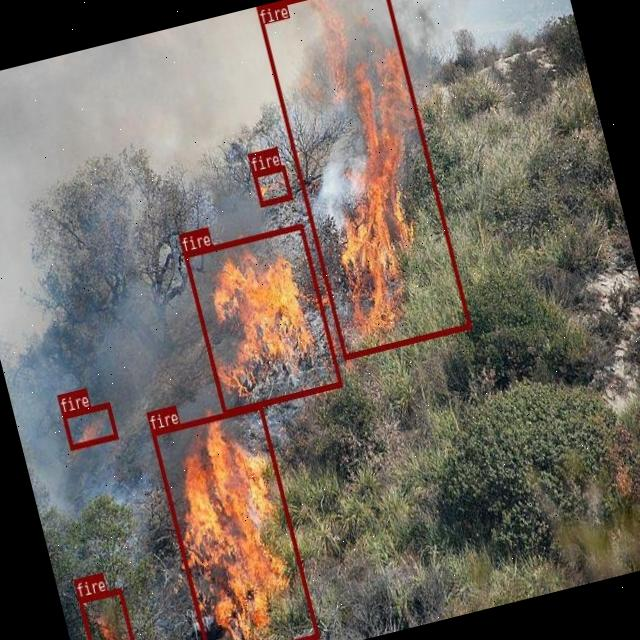fire: (255, 0, 470, 359), (150, 403, 318, 640), (182, 222, 342, 414), (77, 587, 141, 640), (61, 402, 117, 449), (252, 164, 292, 206)
